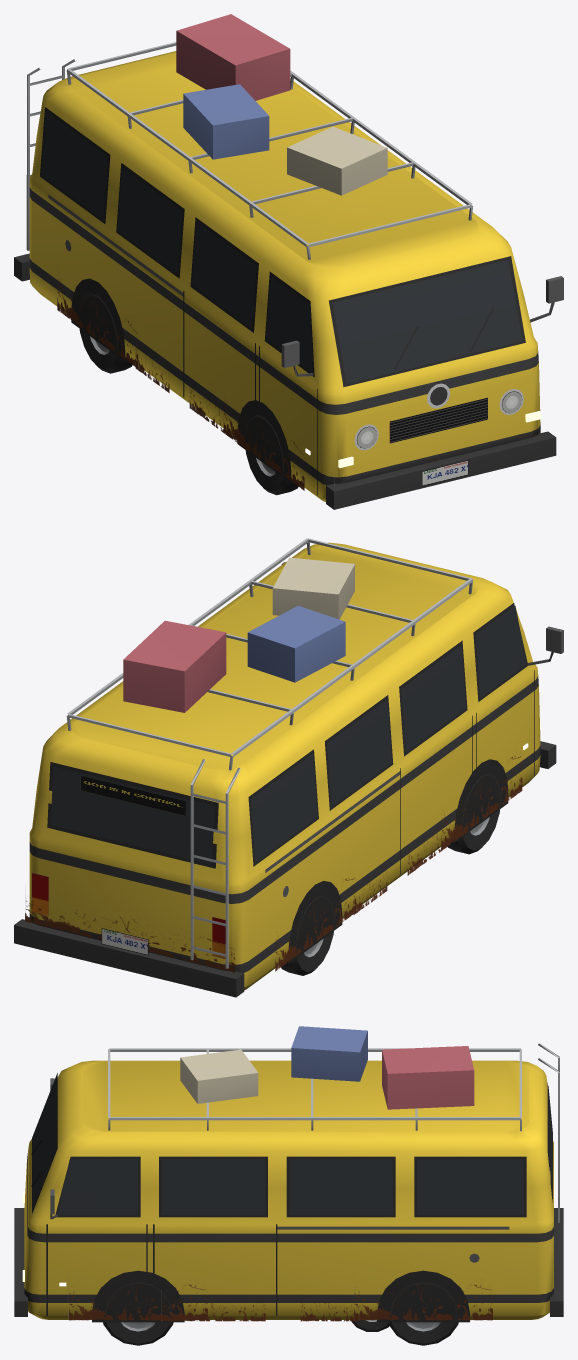
The model's file is env_vehicles.glb.
3 views of the same model, one above another, from view 1: azimuth 30°, elevation 25°; view 2: azimuth 150°, elevation 25°; view 3: azimuth 270°, elevation 25° (orthographic). The views are drawn at different scales.
Visible parts, largest first — view 1: veh_danfo; view 2: veh_danfo; view 3: veh_danfo.
Boxes of the visible parts, left/top/right/bottom form: veh_danfo: left=14, top=14, right=563, bottom=509; veh_danfo: left=14, top=538, right=563, bottom=997; veh_danfo: left=14, top=1026, right=563, bottom=1345.
Bounding box in the file's own units: 2.39 × 2.42 × 4.74.
12 materials, 3 textured.
